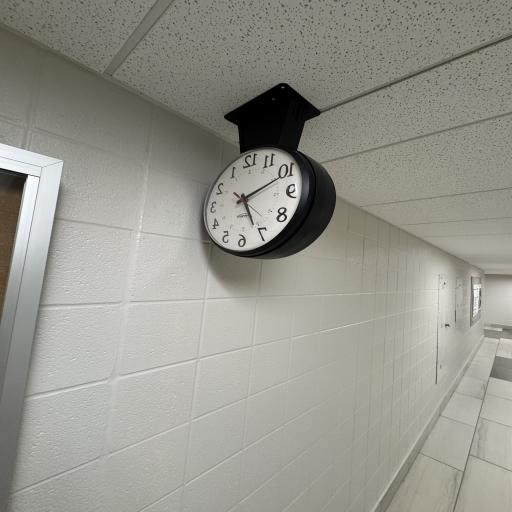clock: (189, 84, 341, 278)
